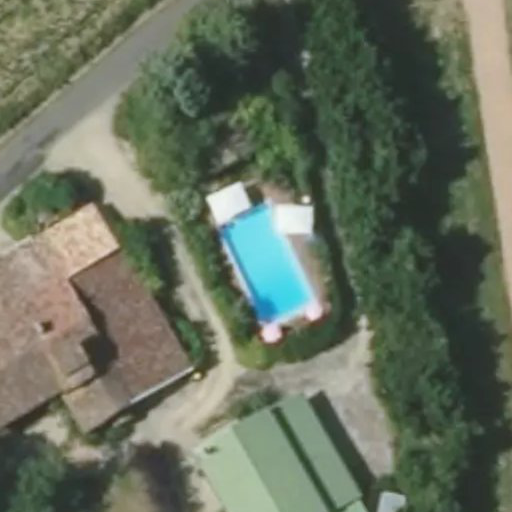pool: (208, 220, 303, 263)
